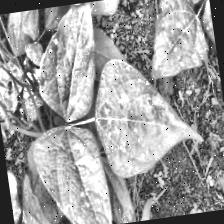Bean Rust: (89, 49, 202, 180), (29, 2, 106, 121), (26, 121, 113, 224), (140, 0, 209, 81)
